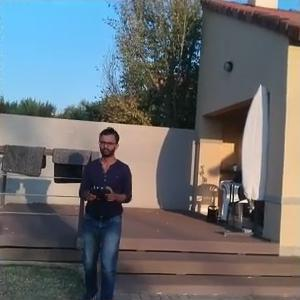follow: (71, 119, 134, 298)
